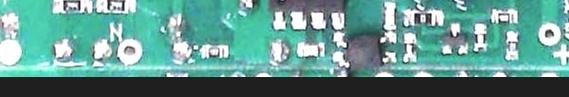chip-capacitor: (381, 0, 398, 31), (294, 41, 325, 58)
chip-resistor: (401, 7, 444, 29), (50, 0, 94, 17), (94, 0, 137, 15), (502, 28, 520, 62), (198, 43, 230, 61), (470, 22, 487, 55), (489, 7, 519, 24), (402, 32, 417, 63)
ic: (331, 30, 399, 68)
transistor: (440, 22, 468, 57)
